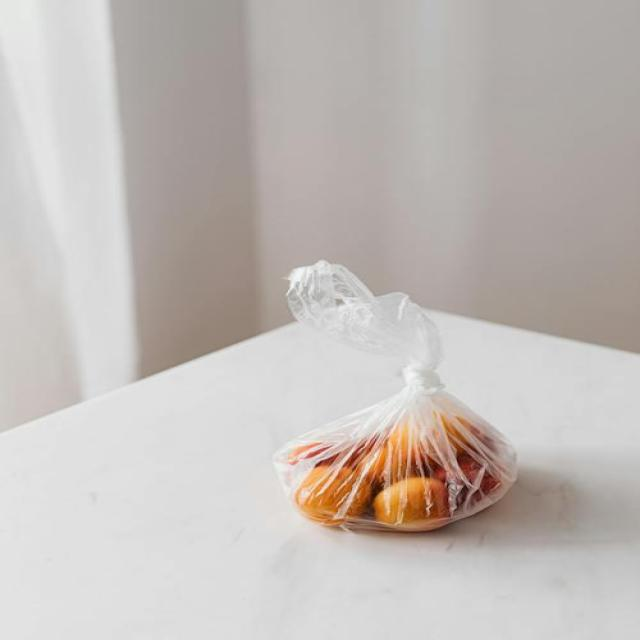plastic: (301, 270, 481, 416)
trash: (250, 237, 563, 556)
